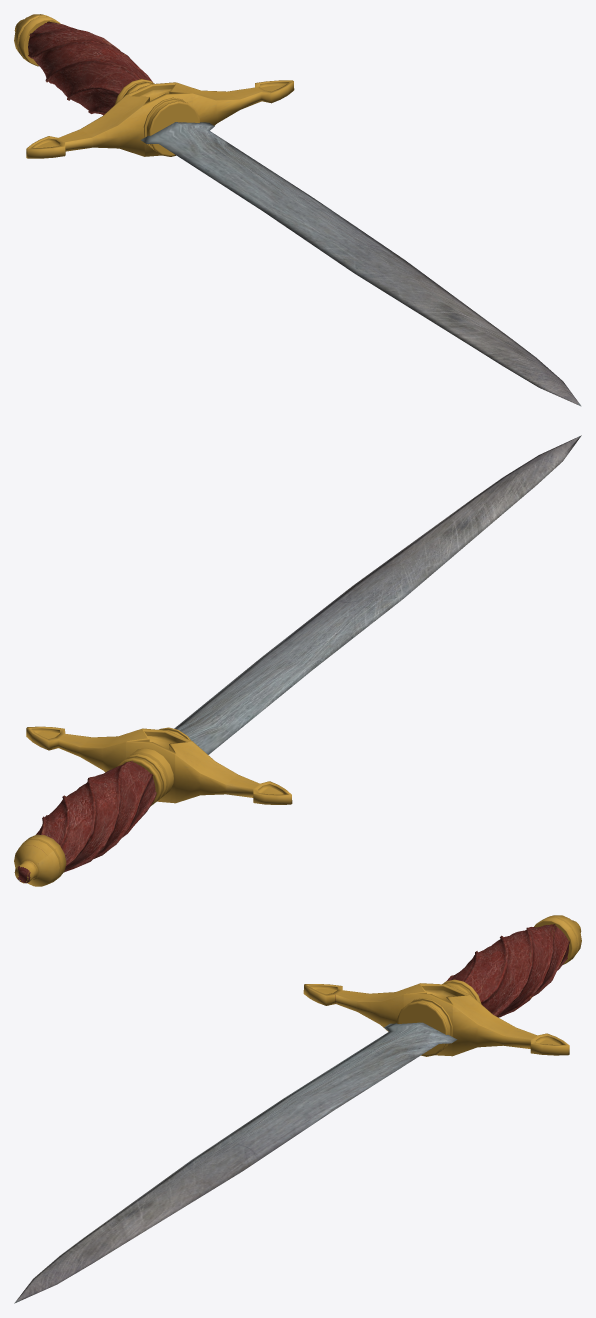
Rendered from sword.fbx.
3 views of the same model, one above another, from view 1: azimuth 30°, elevation 25°; view 2: azimuth 150°, elevation 25°; view 3: azimuth 330°, elevation 25° (orthographic).
Parts seen in each view (by area): view 1: Tang End Cap; view 2: Tang End Cap; view 3: Tang End Cap.
Boxes of the visible parts, bbox=[...] form: Tang End Cap: bbox=[14, 14, 581, 406]; Tang End Cap: bbox=[14, 435, 581, 886]; Tang End Cap: bbox=[14, 915, 581, 1303].
Size of the model in its own units: 3.68 by 0.8868 by 13.39.
